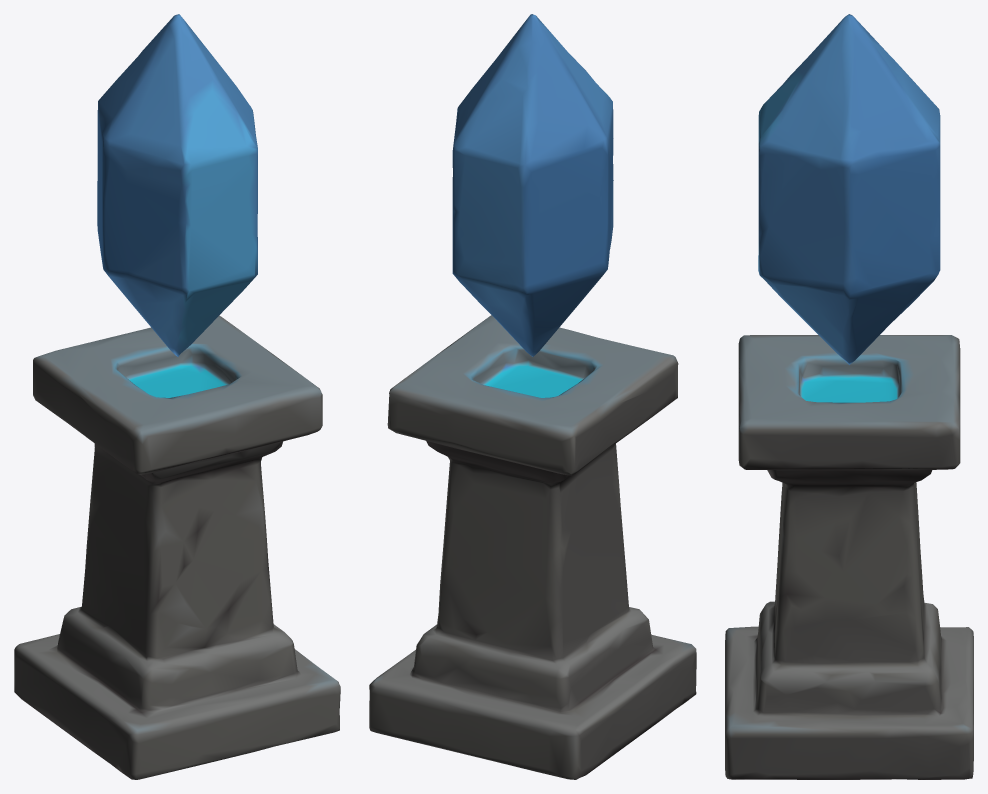
File: gen3d-crystal-pedestal-lod0.glb
The picture shows the model from 3 angles, left to right: view 1: azimuth 30°, elevation 25°; view 2: azimuth 150°, elevation 25°; view 3: azimuth 270°, elevation 25°; orthographic projection. The views are drawn at different scales.
Visible parts, largest first — view 1: part_0; view 2: part_0; view 3: part_0.
Boxes of the visible parts, x1,y1,x2,y2 form: part_0: (14,14,340,779); part_0: (369,14,696,779); part_0: (725,14,973,779).
Bounding box in the file's own units: 0.3157 × 0.9987 × 0.3157.
